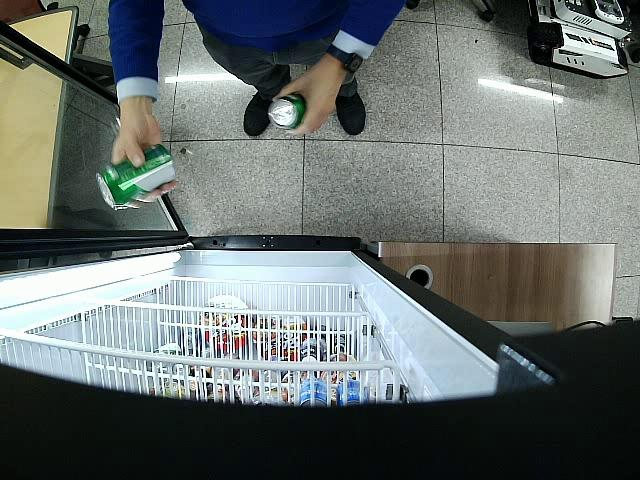00_hand: (112, 106, 178, 211), (273, 58, 343, 136)
12_chilsungCider: (97, 144, 175, 210), (267, 94, 307, 130)
